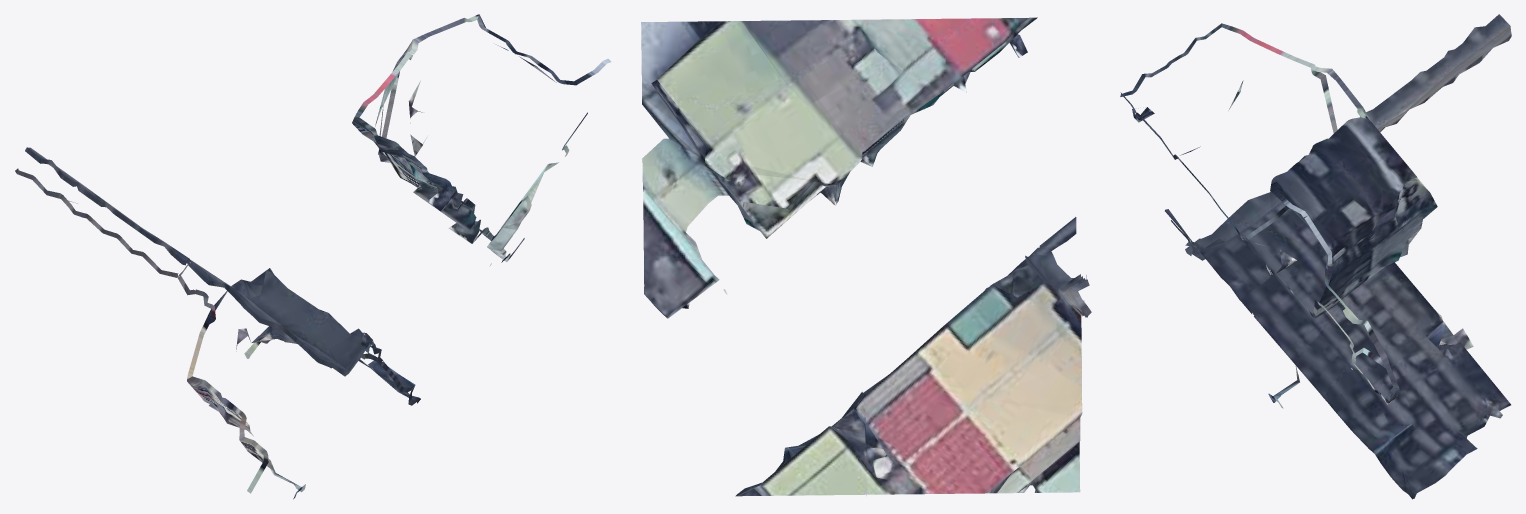
3 renders of one model, left to right at view 1: azimuth 30°, elevation 25°; view 2: azimuth 150°, elevation 25°; view 3: azimuth 270°, elevation 25°, orthographic. The views are drawn at different scales.
Bounding box in the file's own units: 52.24 × 40.57 × 35.18.
1 material, 1 textured.
